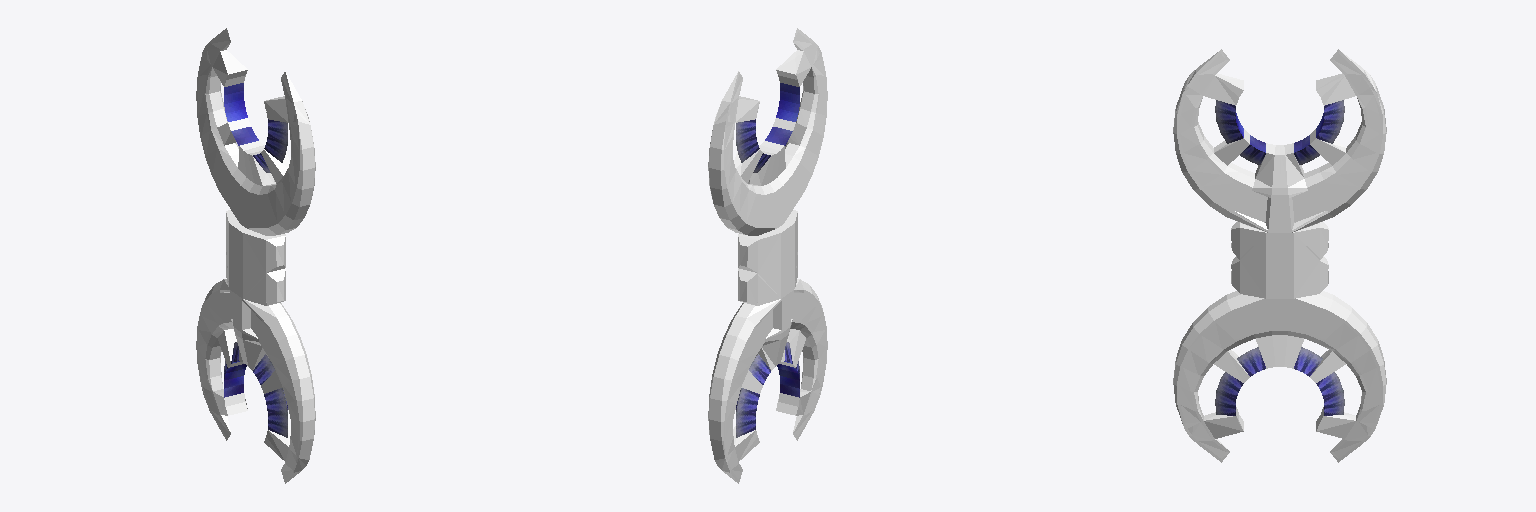
3 renders of one model, left to right at view 1: azimuth 30°, elevation 25°; view 2: azimuth 150°, elevation 25°; view 3: azimuth 270°, elevation 25°, orthographic.
Visible parts, largest first — view 1: Harpie; view 2: Harpie; view 3: Harpie.
Boxes of the visible parts, x1,y1,x2,y2 form: Harpie: [196, 28, 315, 483]; Harpie: [708, 28, 827, 483]; Harpie: [1173, 49, 1386, 462].
Bounding box in the file's own units: 1 × 9.78 × 4.57.
4 materials, 1 textured.